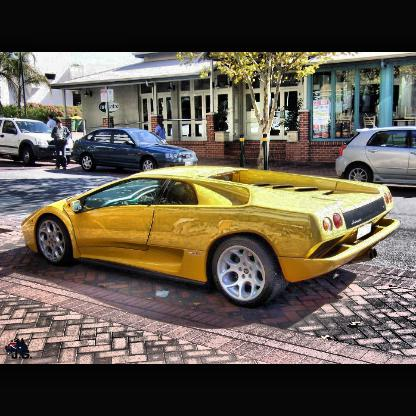Lamborghini Diablo Coupe 2001: (22, 164, 401, 303)
